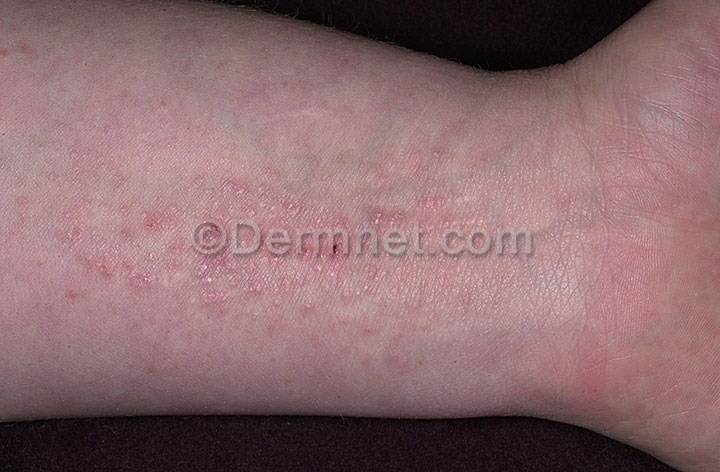Eczema: (4, 14, 608, 420)
